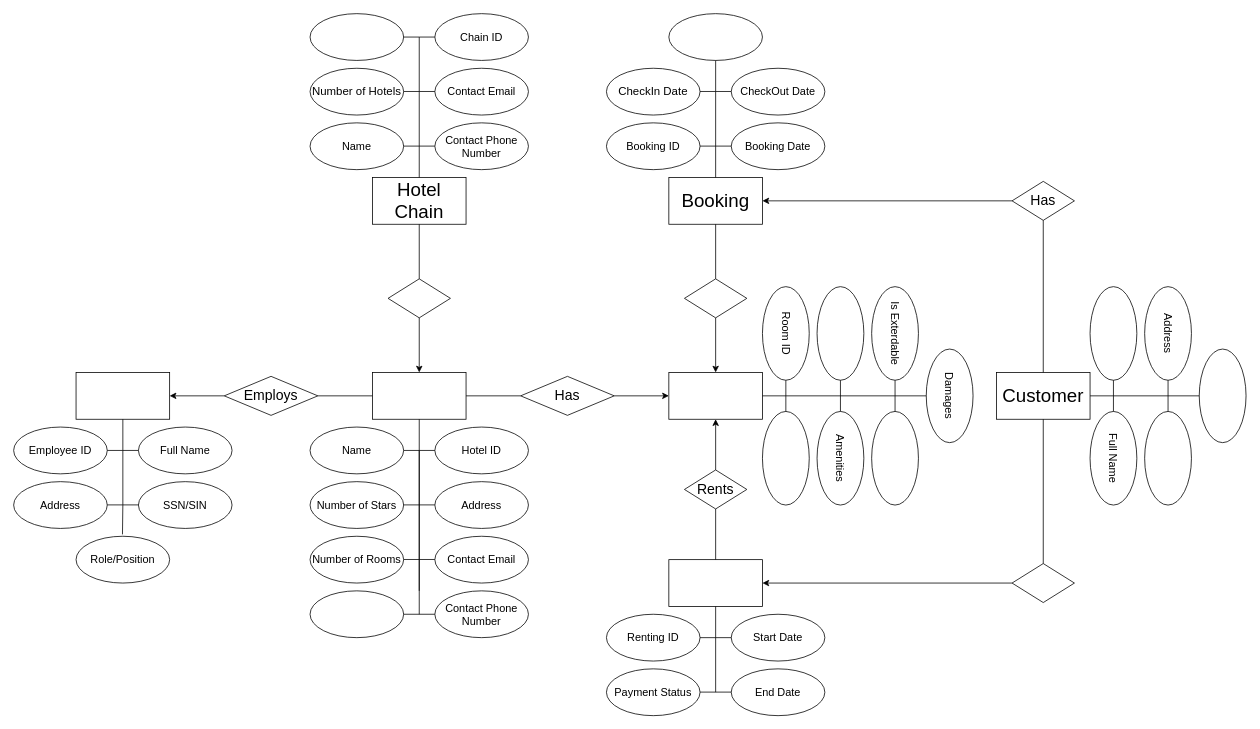
The diagram is 1260 pixels wide and 729 high, and some of its shapes have lost their labels. Here are the shapes that lost their labels. From the top down, the box of each, then its label:
(309, 13, 404, 60): Address of its central offices
(668, 13, 762, 60): Status
(387, 278, 450, 318): Owns
(684, 278, 747, 318): Books
(816, 286, 864, 380): View Type
(1089, 286, 1137, 380): Customer ID
(75, 372, 170, 419): Employee
(372, 372, 466, 419): Hotel
(668, 372, 762, 419): Room
(1198, 348, 1246, 443): Registration Date
(762, 411, 809, 505): Price
(871, 411, 918, 505): Capacity
(1144, 411, 1191, 505): ID Type
(668, 559, 762, 606): Renting
(1011, 563, 1074, 603): Is
(309, 590, 404, 638): Manager
